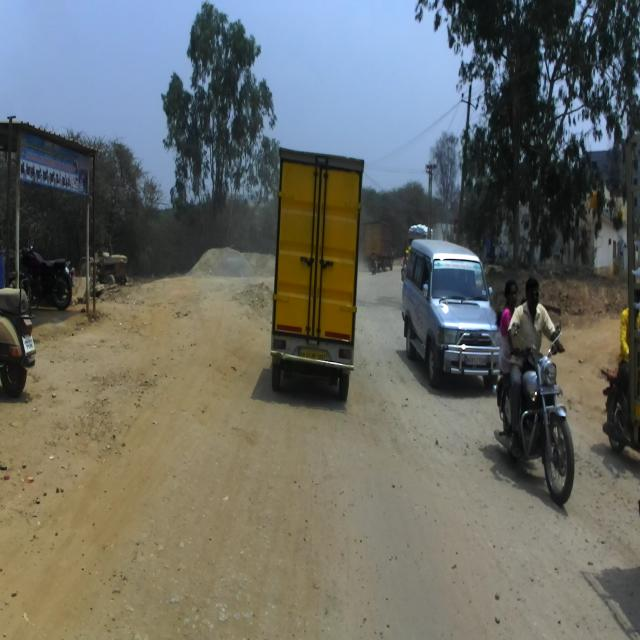car ahead at: (269, 141, 362, 401), (399, 238, 496, 385)
motorcycle ahead at: (497, 340, 576, 523)
